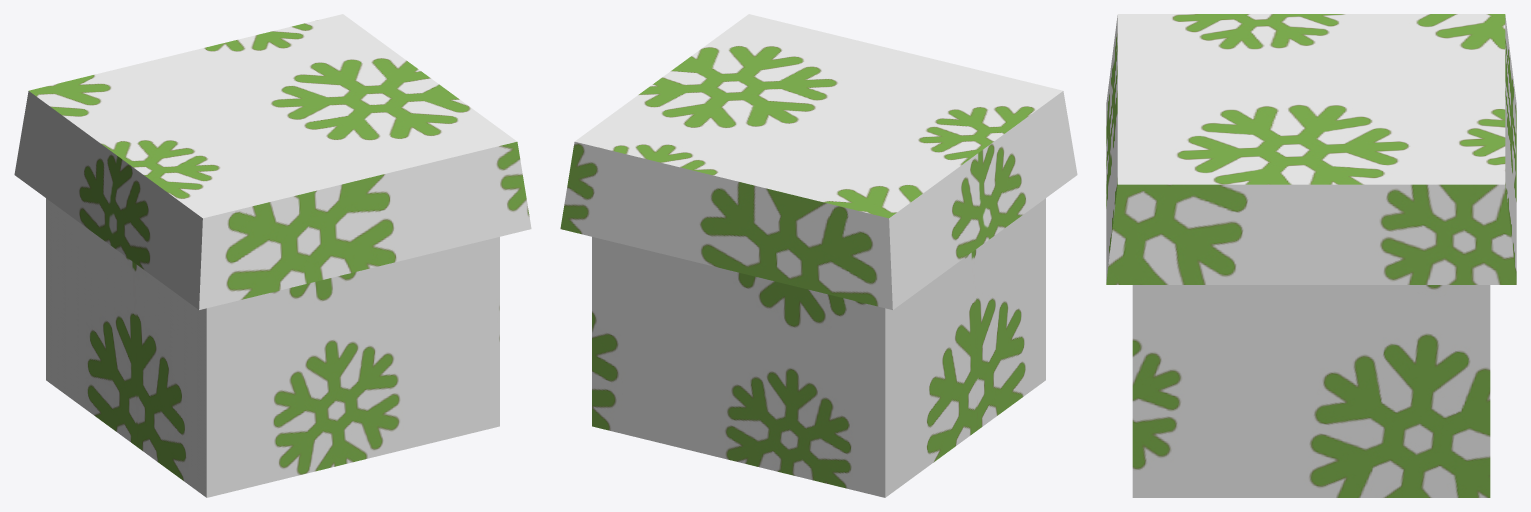
Rendered from M_Gift_05.FBX.
3 renders of one model, left to right at view 1: azimuth 30°, elevation 25°; view 2: azimuth 150°, elevation 25°; view 3: azimuth 270°, elevation 25°, orthographic. The views are drawn at different scales.
Parts seen in each view (by area): view 1: Object002; view 2: Object002; view 3: Object002.
Part boxes in pixels (x1=…): Object002: x1=14, y1=14, x2=531, y2=497; Object002: x1=560, y1=14, x2=1077, y2=497; Object002: x1=1106, y1=14, x2=1516, y2=497.
Size of the model in its own units: 50.39 by 41.59 by 48.49.
